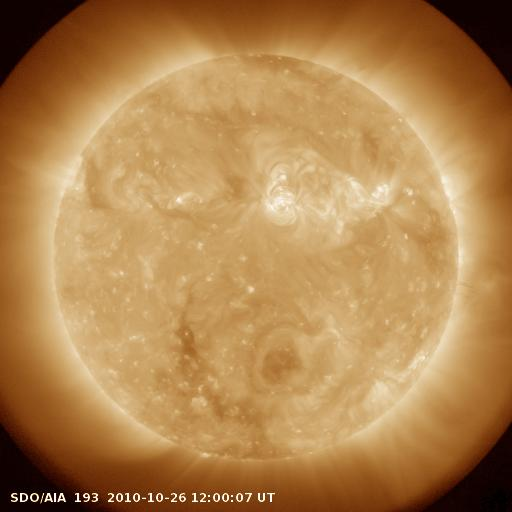coronal_hole: (251, 336, 313, 390), (169, 312, 211, 369)
